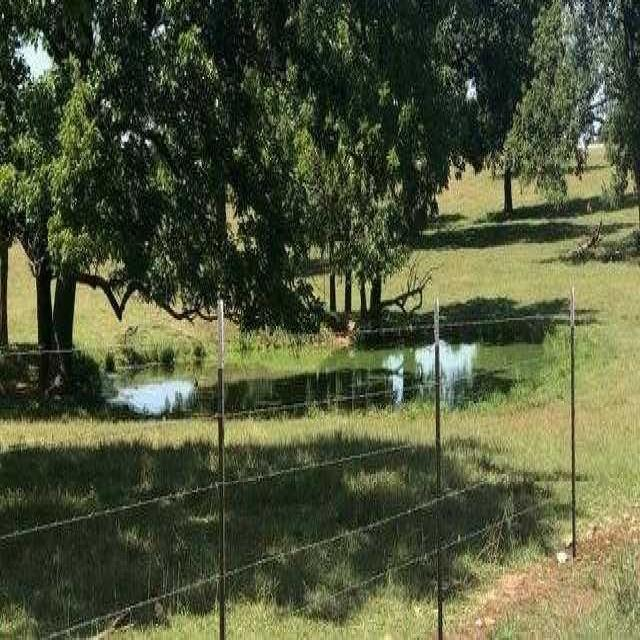Ponds: (74, 311, 598, 426)
